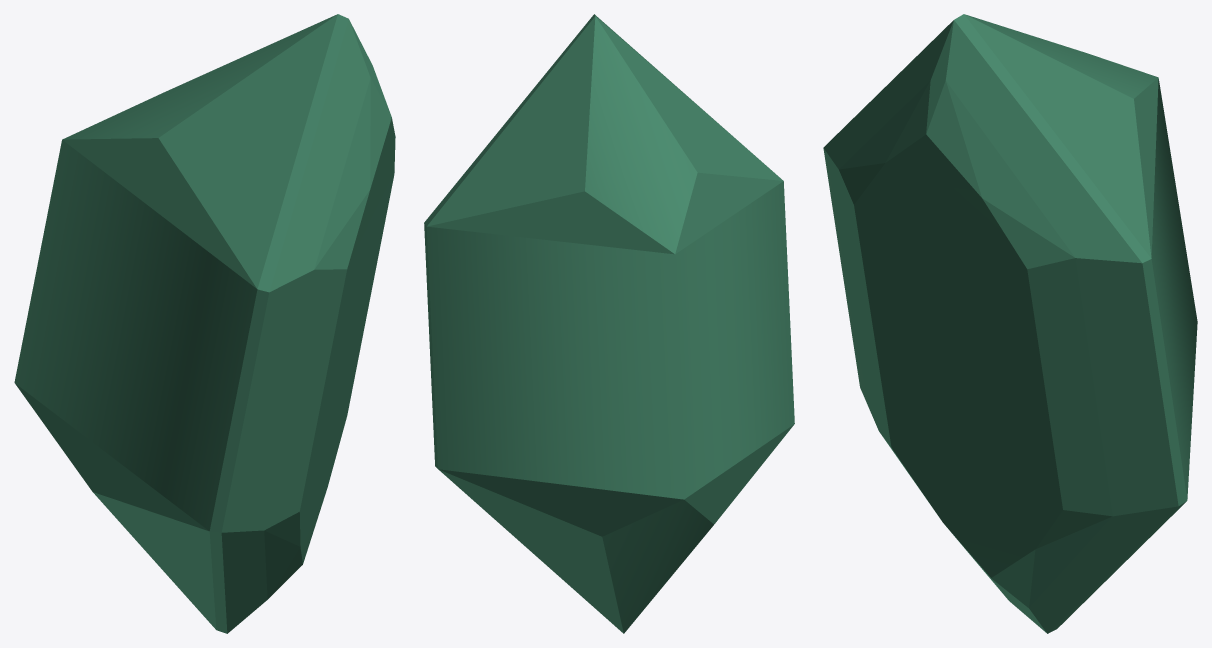
Rendered from TR3_8shapes_Hex_Classic_Stone.001 3.glb.
3 renders of one model, left to right at view 1: azimuth 30°, elevation 25°; view 2: azimuth 150°, elevation 25°; view 3: azimuth 270°, elevation 25°, orthographic. The views are drawn at different scales.
Parts seen in each view (by area): view 1: TR3_8shapes_Hex_Classic_Stone.001; view 2: TR3_8shapes_Hex_Classic_Stone.001; view 3: TR3_8shapes_Hex_Classic_Stone.001.
Boxes of the visible parts, left/top/right/bottom form: TR3_8shapes_Hex_Classic_Stone.001: left=14, top=14, right=395, bottom=633; TR3_8shapes_Hex_Classic_Stone.001: left=424, top=14, right=794, bottom=633; TR3_8shapes_Hex_Classic_Stone.001: left=823, top=14, right=1197, bottom=633.
Bounding box in the file's own units: 0.3972 × 0.765 × 0.3958.
